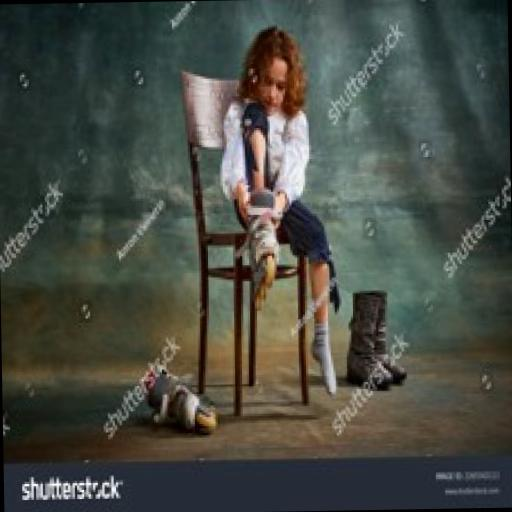human: (216, 18, 345, 408)
